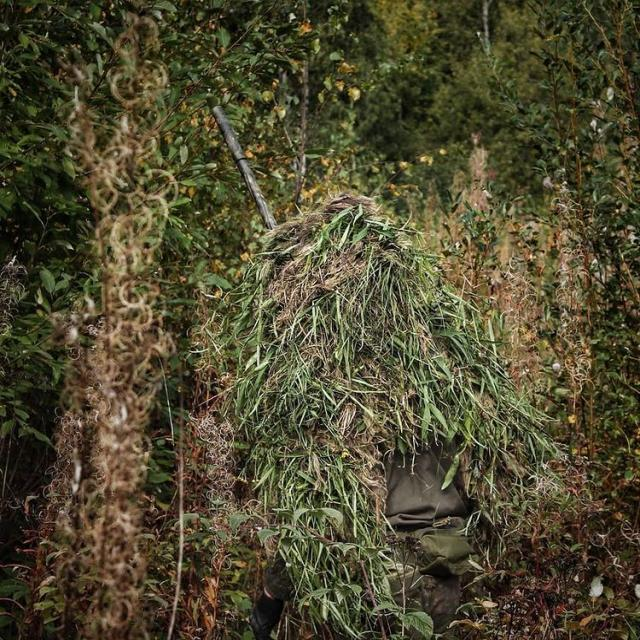Camouflage: (164, 97, 563, 615)
